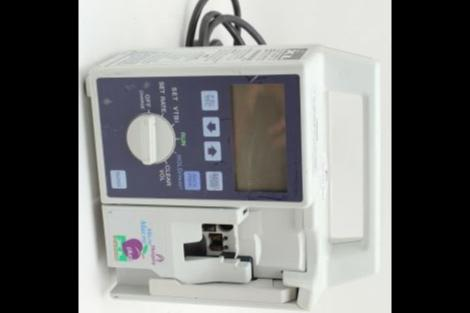plumxl1: (83, 39, 381, 308)
